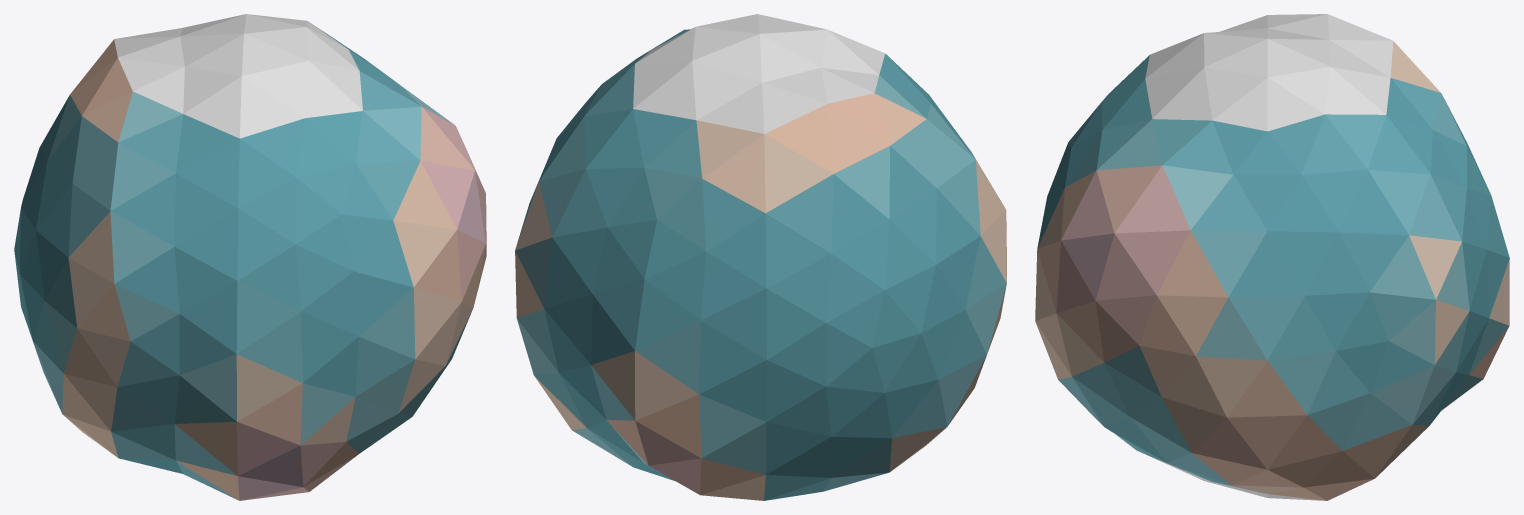
Rendered from planet.glb.
3 views of the same model, side by side, from view 1: azimuth 30°, elevation 25°; view 2: azimuth 150°, elevation 25°; view 3: azimuth 270°, elevation 25° (orthographic). The views are drawn at different scales.
Parts seen in each view (by area): view 1: DawnPlanet; view 2: DawnPlanet; view 3: DawnPlanet.
Boxes of the visible parts, x1,y1,x2,y2 form: DawnPlanet: [14, 14, 486, 500]; DawnPlanet: [515, 14, 1006, 500]; DawnPlanet: [1035, 14, 1509, 500].
Size of the model in its own units: 3.12 by 3.09 by 3.1.
